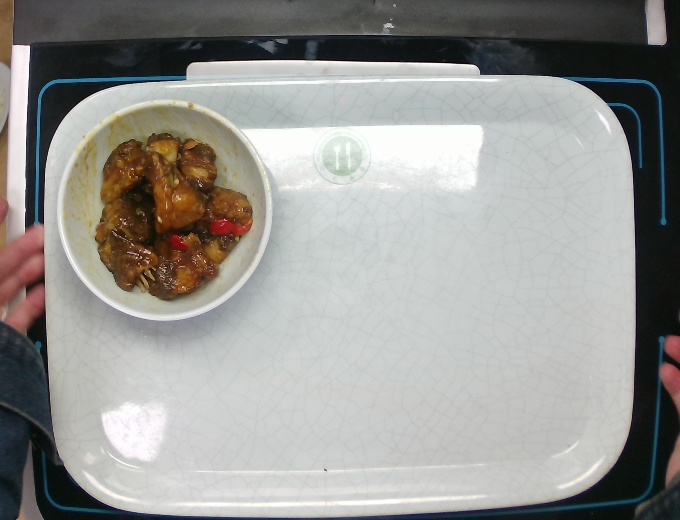JYsf-Fan_Wan: (54, 93, 275, 321)
